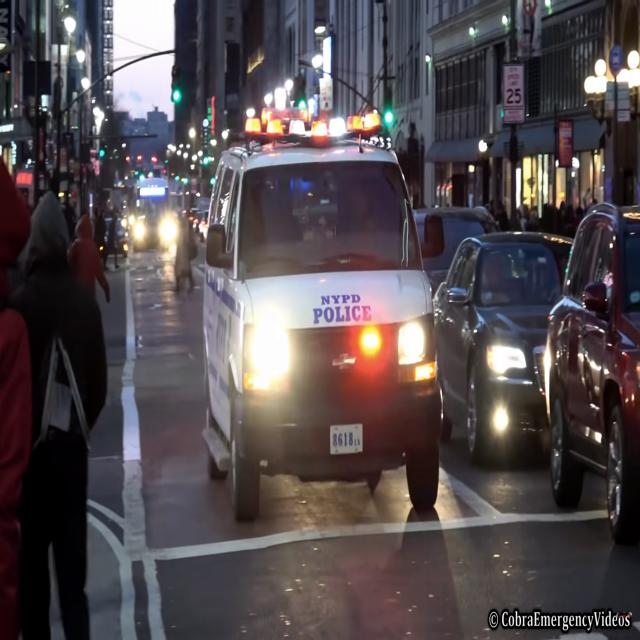emergency-vehicles: (162, 99, 490, 519)
